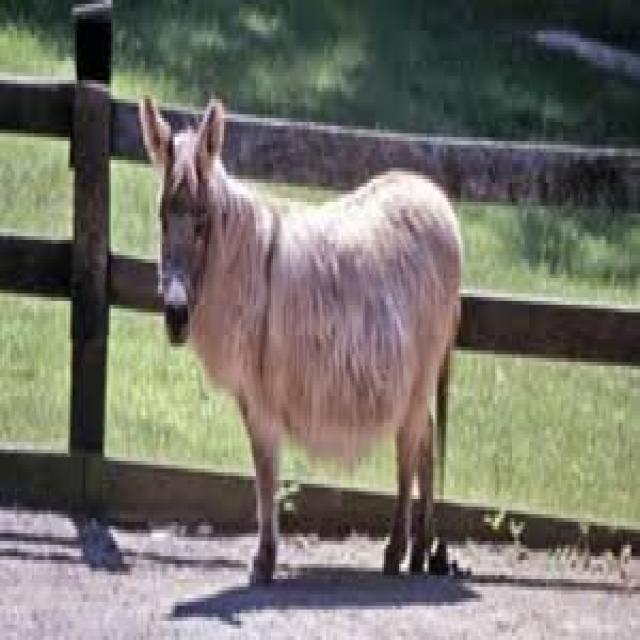Donkey: (129, 79, 474, 602)
